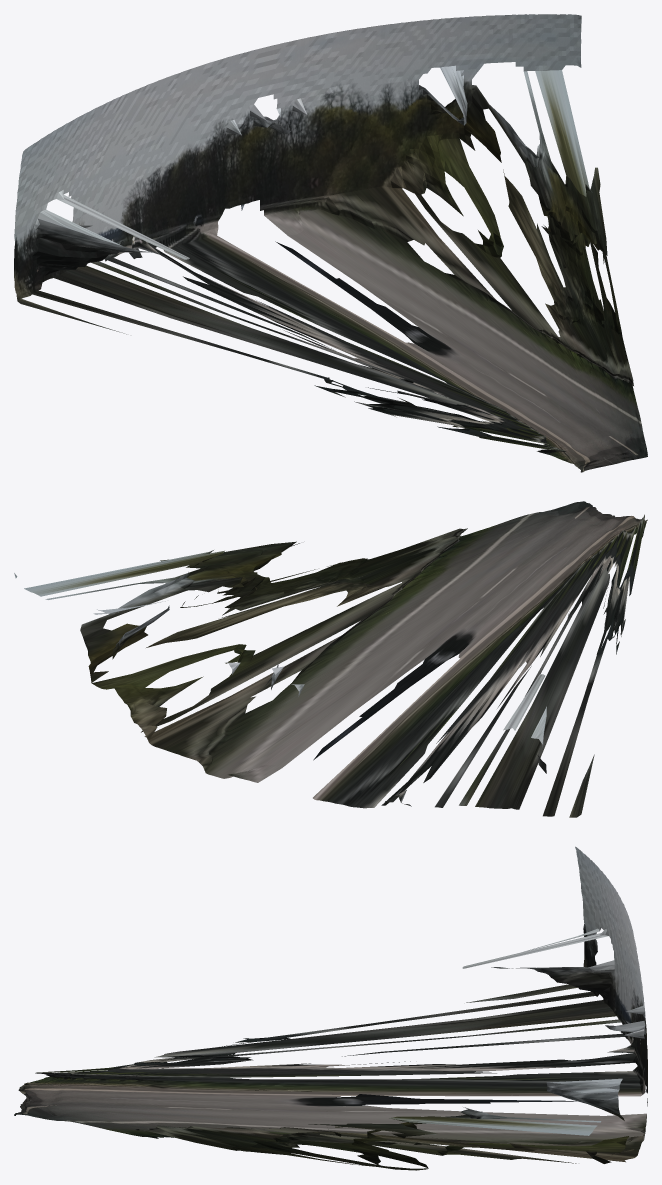
3 renders of one model, top to bottom at view 1: azimuth 30°, elevation 25°; view 2: azimuth 150°, elevation 25°; view 3: azimuth 270°, elevation 25°, orthographic. The views are drawn at different scales.
Visible parts, largest first — view 1: defaultobject; view 2: defaultobject; view 3: defaultobject.
Part boxes in pixels (<box>): defaultobject: <box>14,14,647,472</box>; defaultobject: <box>14,501,647,817</box>; defaultobject: <box>14,846,647,1170</box>.
Bounding box in the file's own units: 41.03 × 12.47 × 44.73.
1 material, 1 textured.
